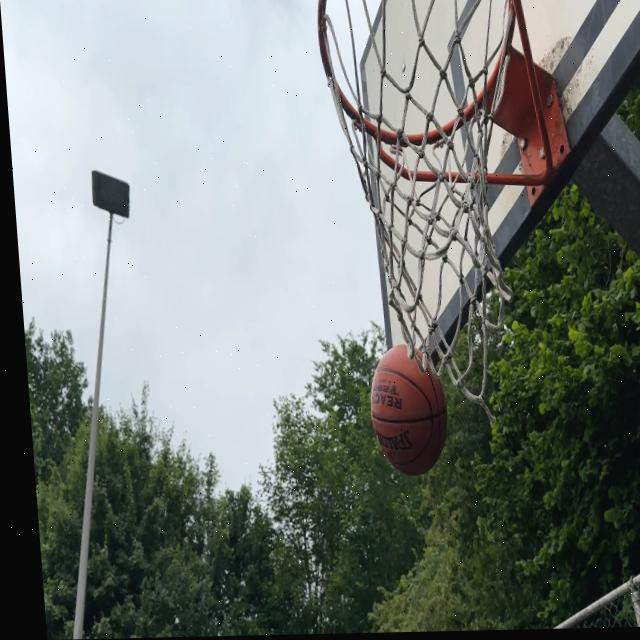Basketball: (367, 348, 450, 480)
